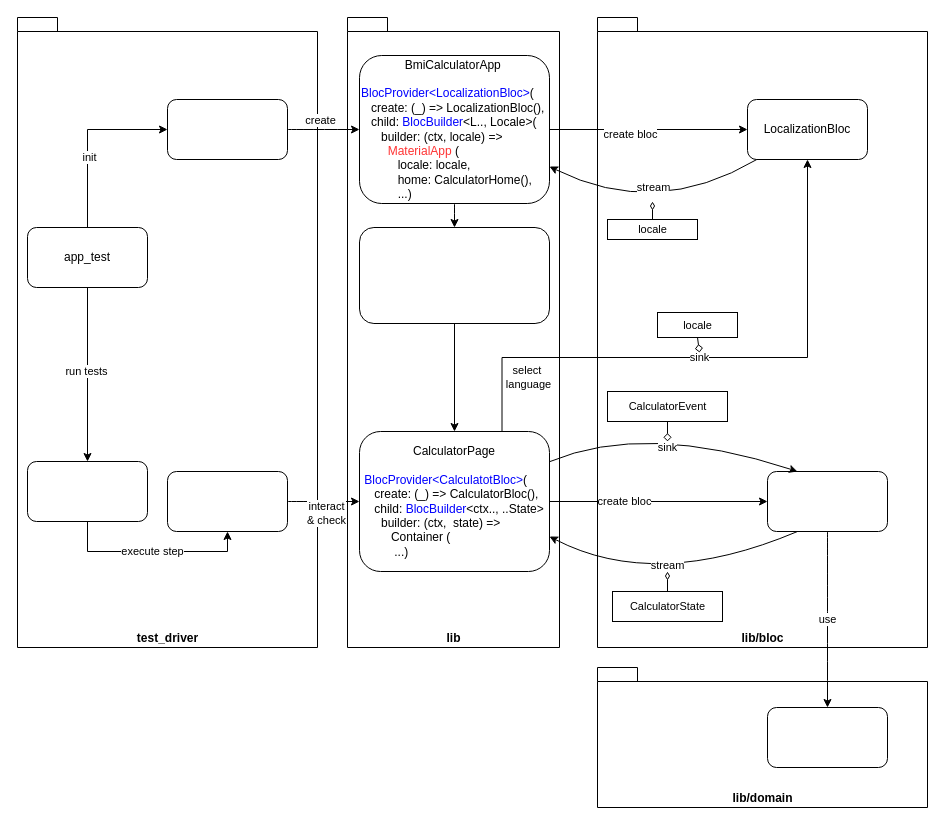
The diagram is 945 pixels wide and 825 high, and some of its shapes have lost their labels. Here are the shapes that lost their labels. From the top down, the centre of each, then its label:
pixel 227 129: app
pixel 454 275: CalculatorHome Scaffold( .. body: CalculatorPage(), ...)
pixel 87 491: features/ calculate_bmi .feature
pixel 227 501: steps/ calculate_bmi_steps .dart
pixel 827 501: CalculatorBloc
pixel 827 737: BmiCalculator
